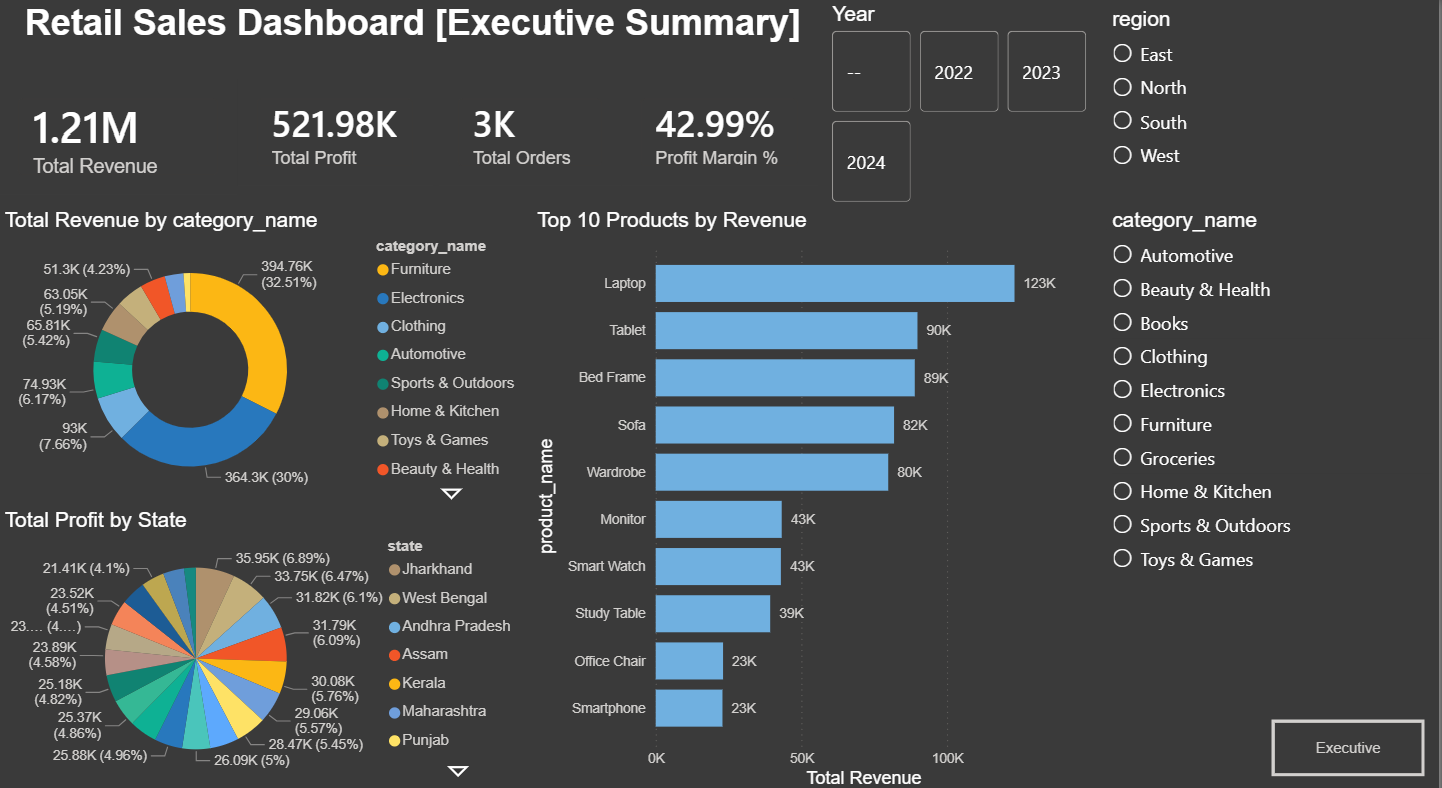

The page's visual inventory and layout, read from the dashboard file:
{"tool":"powerbi","page":{"name":"Executive Summary","canvas":[1280,720],"ordinal":0},"visuals":[{"type":"cardVisual","title":"Total Revenue","fields":{"Data":["_Measures.Total Revenue"]},"box":[0,73.6,212.3,102.5],"z":0},{"type":"cardVisual","fields":{"Data":["_Measures.Total Profit"]},"box":[212.3,73.6,173.7,94.1],"z":1000},{"type":"cardVisual","fields":{"Data":["_Measures.Total Orders"]},"box":[390.9,73.6,162.9,94.1],"z":2000},{"type":"cardVisual","fields":{"Data":["_Measures.Profit Margin %"]},"box":[553.8,73.6,174.9,94.1],"z":3000},{"type":"donutChart","fields":{"Category":["retail_db vw_sales_fact.category_name"],"Y":["_Measures.Total Revenue"]},"box":[0,187.8,472.2,266.7],"z":4000},{"type":"clusteredBarChart","title":"Top 10 Products by Revenue","fields":{"Category":["retail_db vw_sales_fact.product_name"],"Y":["_Measures.Total Revenue"]},"box":[473.3,187.8,501.1,520],"z":5000},{"type":"advancedSlicerVisual","fields":{"Values":["DateTable.Year"]},"box":[735.9,4.8,238.9,183.4],"z":6000},{"type":"listSlicer","fields":{"Values":["retail_db vw_sales_fact.region"]},"box":[984.5,8.4,293.2,197.9],"z":7000},{"type":"listSlicer","fields":{"Values":["retail_db vw_sales_fact.category_name"]},"box":[984.4,187.8,295.6,403.3],"z":8000},{"type":"textbox","box":[0,0,735.9,73.6],"z":9000},{"type":"pieChart","title":"Total Profit by State","fields":{"Y":["_Measures.Total Profit"],"Category":["retail_db vw_sales_fact.state"]},"box":[0,454.4,473.3,246.7],"z":10000},{"type":"actionButton","box":[1131.6,641.8,136.3,50.7],"z":11000}]}

Visuals, with their boxes in screenshot pixels (x1, y1, x2, y2), scaled from the page's 1280x720 canvas onto the 1442x788 screenshot:
"Total Revenue" cardVisual: box(0, 81, 239, 193)
cardVisual - _Measures.Total Profit: box(239, 81, 435, 184)
cardVisual - _Measures.Total Orders: box(440, 81, 624, 184)
cardVisual - _Measures.Profit Margin %: box(624, 81, 821, 184)
donutChart - retail_db vw_sales_fact.category_name x _Measures.Total Revenue: box(0, 206, 532, 497)
"Top 10 Products by Revenue" clusteredBarChart: box(533, 206, 1098, 775)
advancedSlicerVisual - DateTable.Year: box(829, 5, 1098, 206)
listSlicer - retail_db vw_sales_fact.region: box(1109, 9, 1439, 226)
listSlicer - retail_db vw_sales_fact.category_name: box(1109, 206, 1441, 647)
textbox: box(0, 0, 829, 81)
"Total Profit by State" pieChart: box(0, 497, 533, 767)
actionButton: box(1275, 702, 1428, 758)
